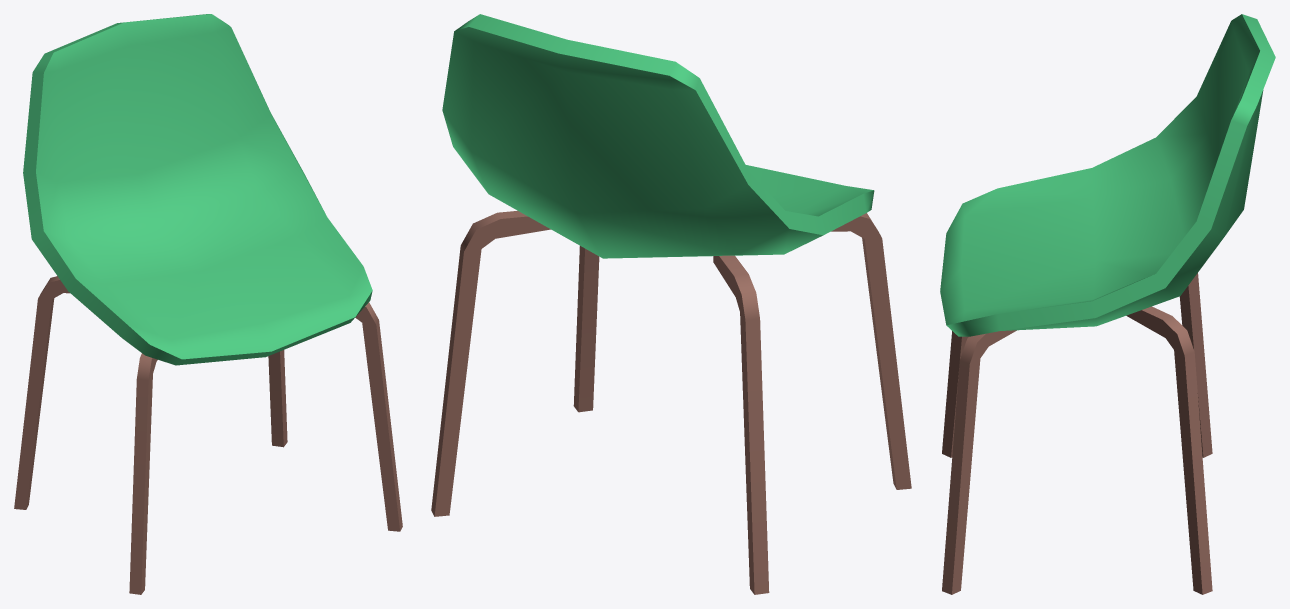
Rendered from SM_kitchen_chair_001.FBX.
The picture shows the model from 3 angles, left to right: view 1: azimuth 30°, elevation 25°; view 2: azimuth 150°, elevation 25°; view 3: azimuth 270°, elevation 25°; orthographic projection. The views are drawn at different scales.
Visible parts, largest first — view 1: SM_kitchen_chair_001; view 2: SM_kitchen_chair_001; view 3: SM_kitchen_chair_001.
Boxes of the visible parts, x1,y1,x2,y2 form: SM_kitchen_chair_001: [14, 14, 402, 594]; SM_kitchen_chair_001: [431, 14, 911, 594]; SM_kitchen_chair_001: [940, 14, 1275, 594].
Bounding box in the file's own units: 54.59 × 53.38 × 82.73.
